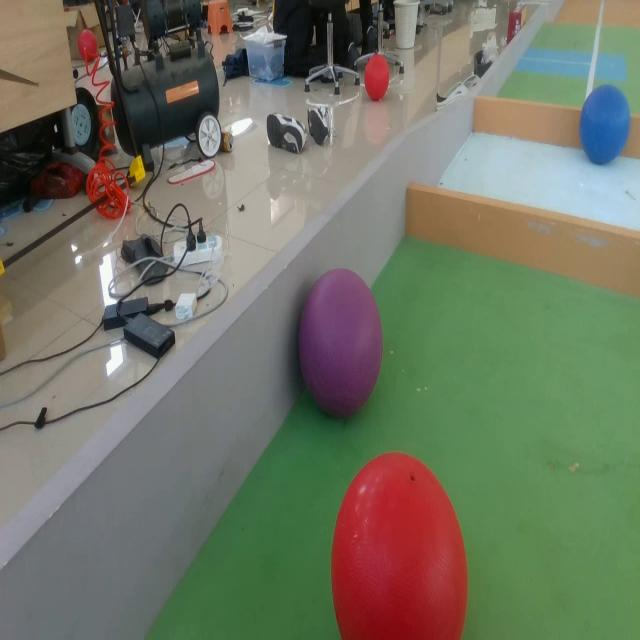blue: (580, 81, 630, 166)
invalid: (297, 266, 383, 418)
red: (331, 453, 469, 640)
